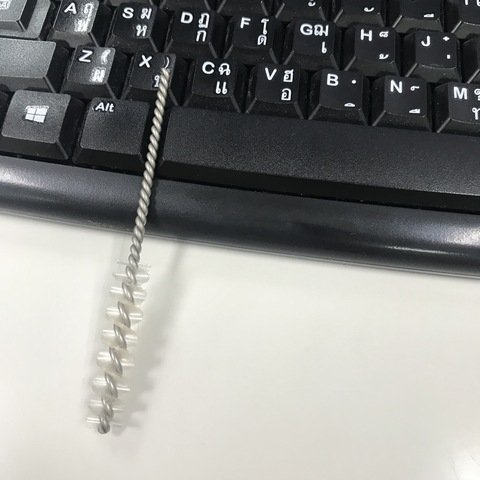Twist Brush-B: (82, 67, 170, 435)
